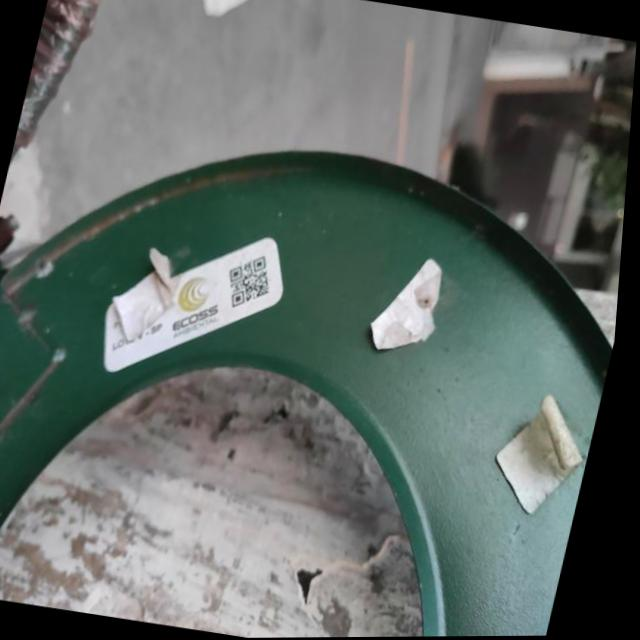qrcode: (227, 253, 281, 313)
